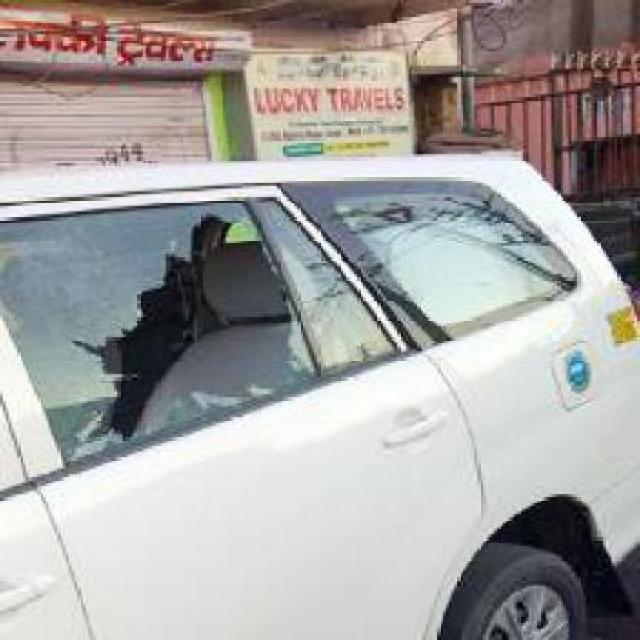damaged-window: (1, 192, 394, 450)
